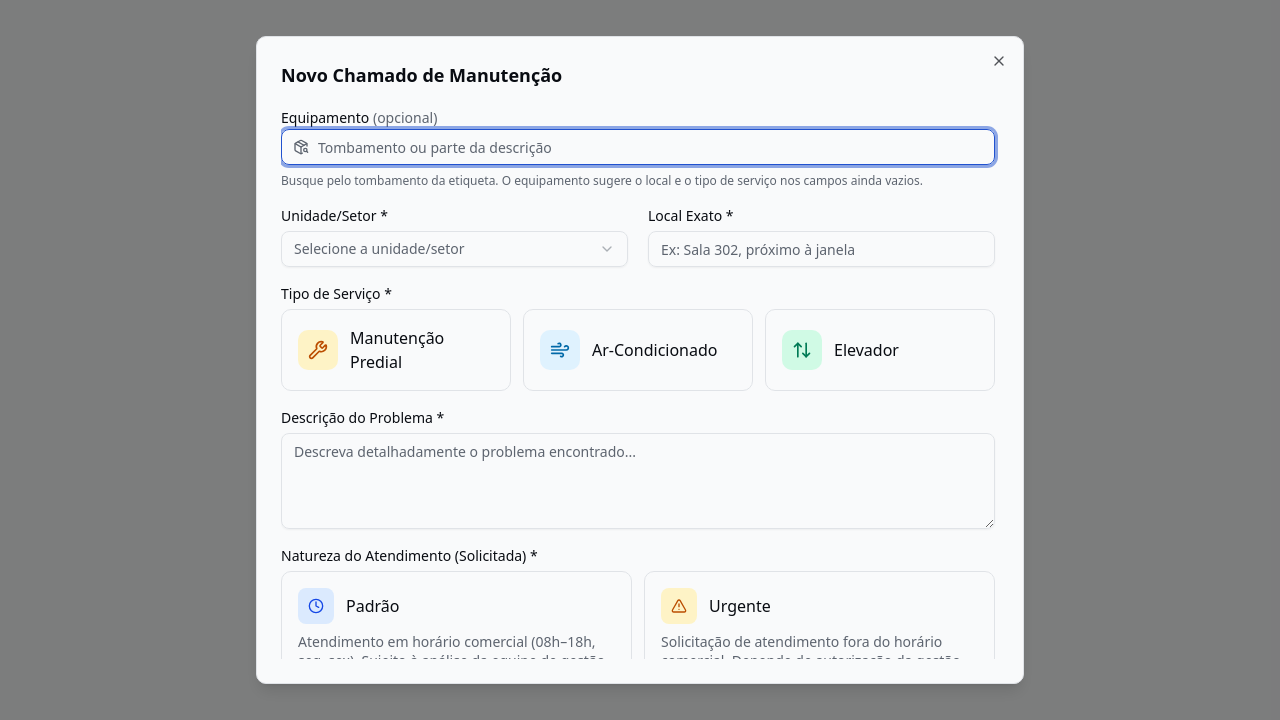
NewTicketDialog · equipamento (spec 0011) › trocar de ativo sobrescreve só o que o anterior preencheu
The width and height of the screenshot is (1280, 720).
Type "119" into the dropdown labelled "Equipamento (opcional)" at (638, 147), box [281, 129, 995, 165]
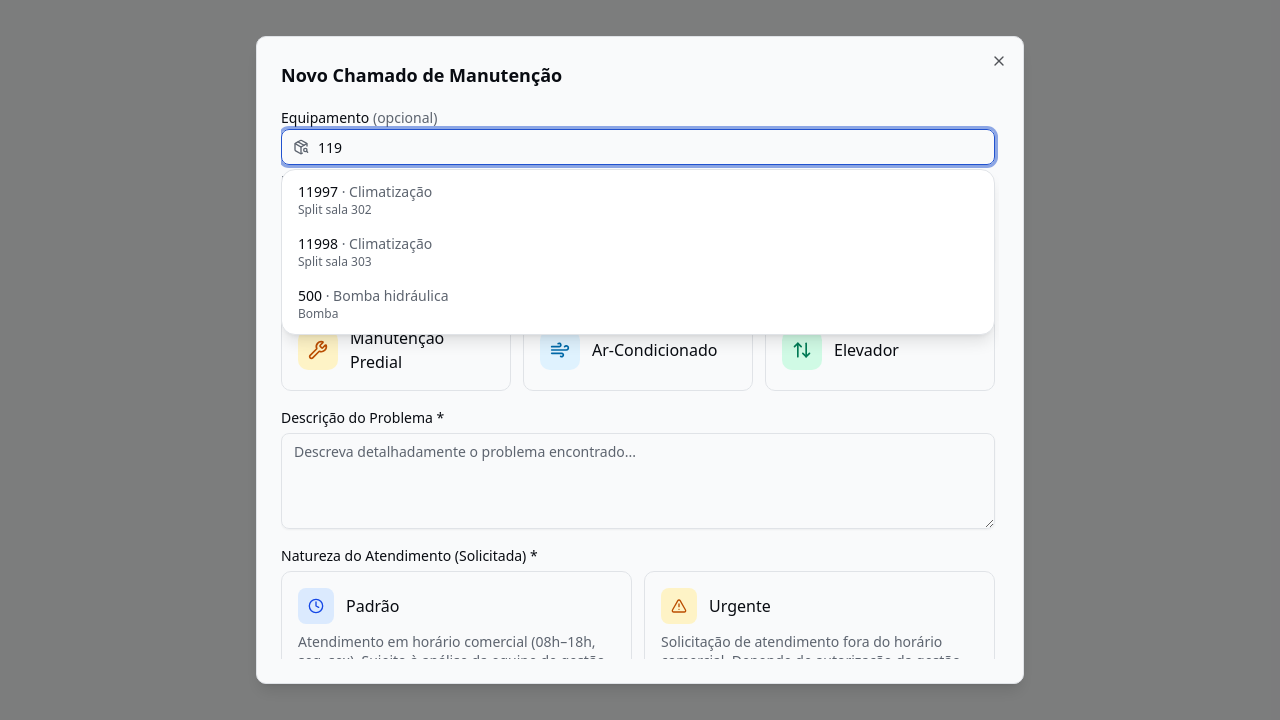
Click the option "11997 · Climatização Split sala 302" at (365, 200), box [298, 182, 432, 218]
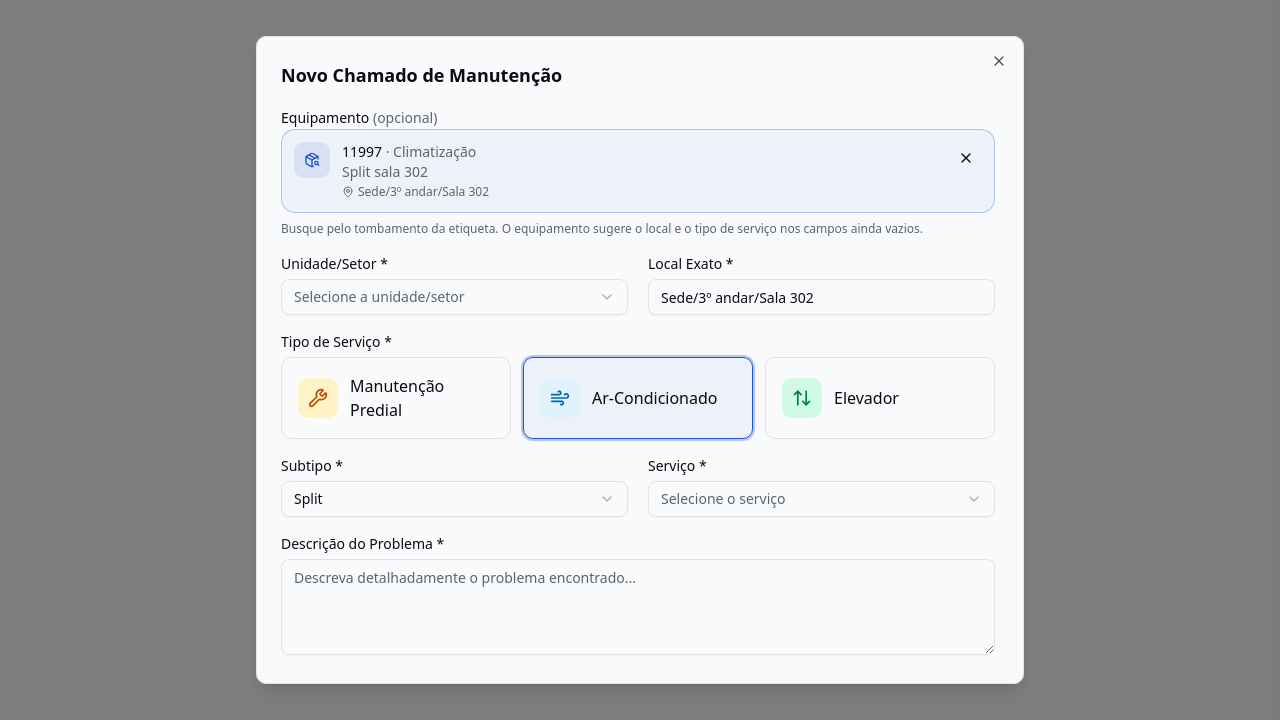
Result: the field labelled "Local Exato *" holds "Sede/3º andar/Sala 302" at [648, 279, 995, 315]
Click the button named "Remover o equipamento 11997" at (966, 158), box [950, 142, 982, 174]
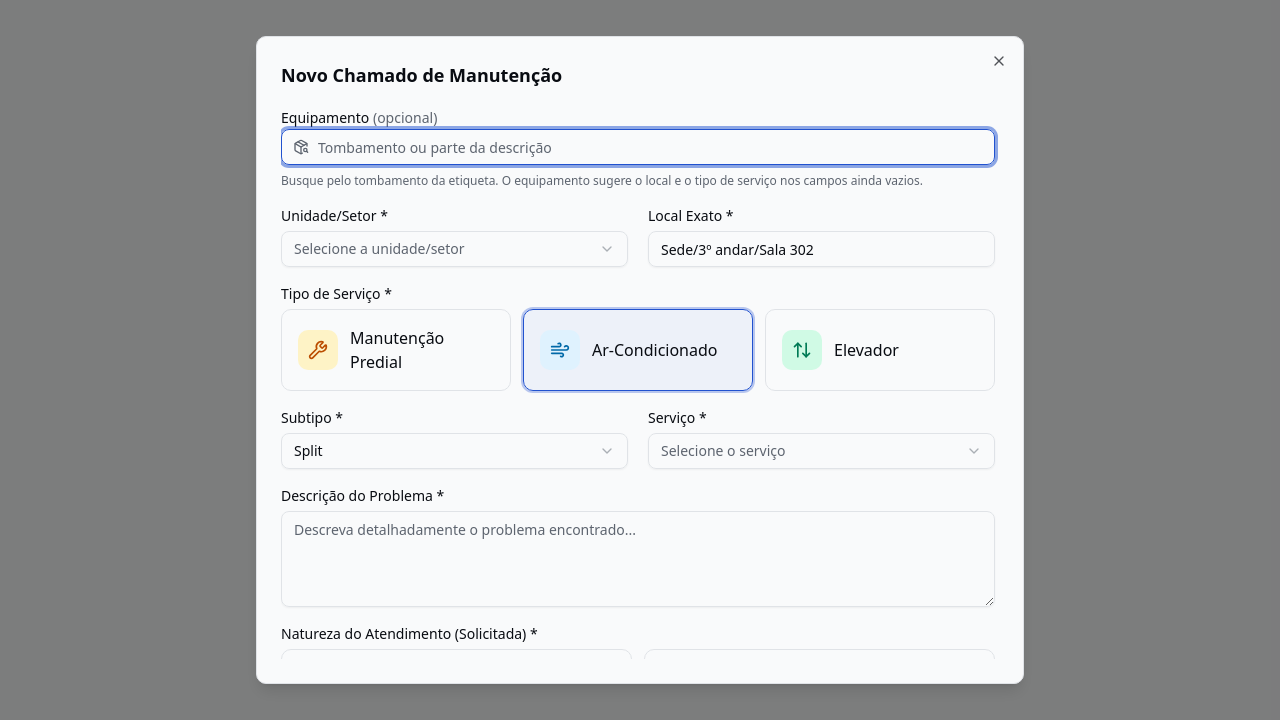
Type "119" into the dropdown labelled "Equipamento (opcional)" at (638, 147), box [281, 129, 995, 165]
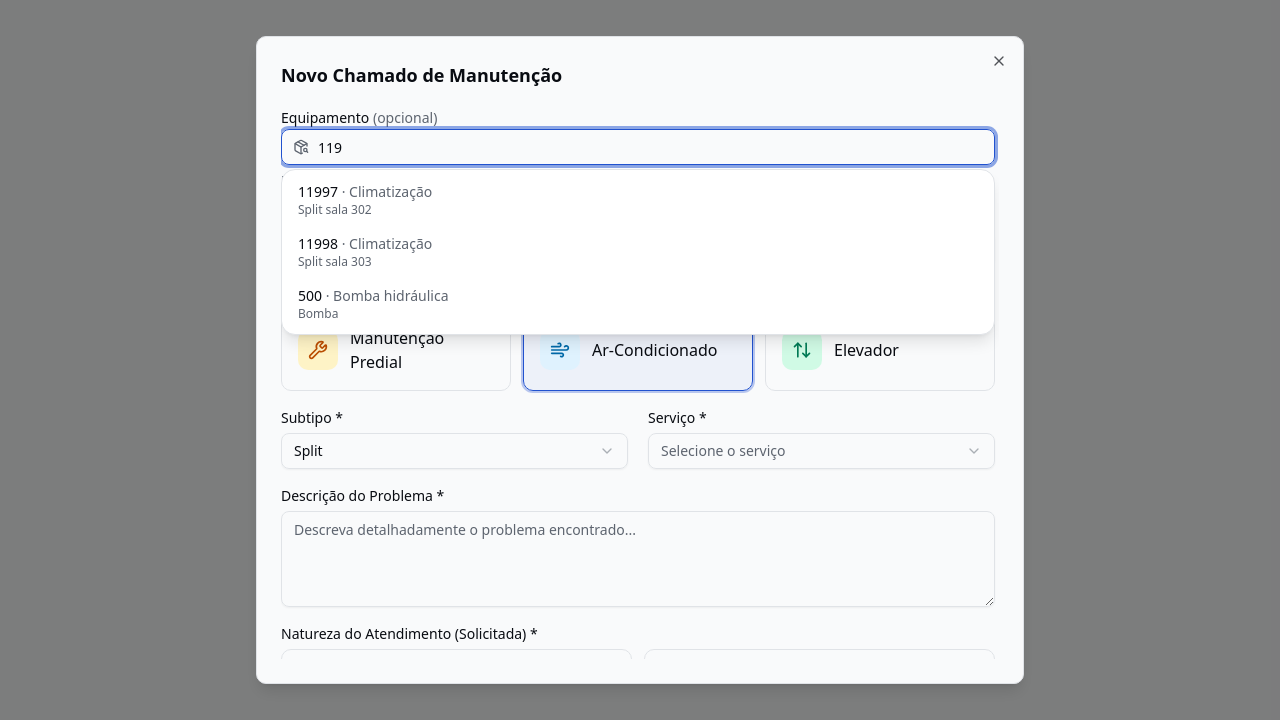
Click the option "11998 · Climatização Split sala 303" at (365, 252), box [298, 234, 432, 270]
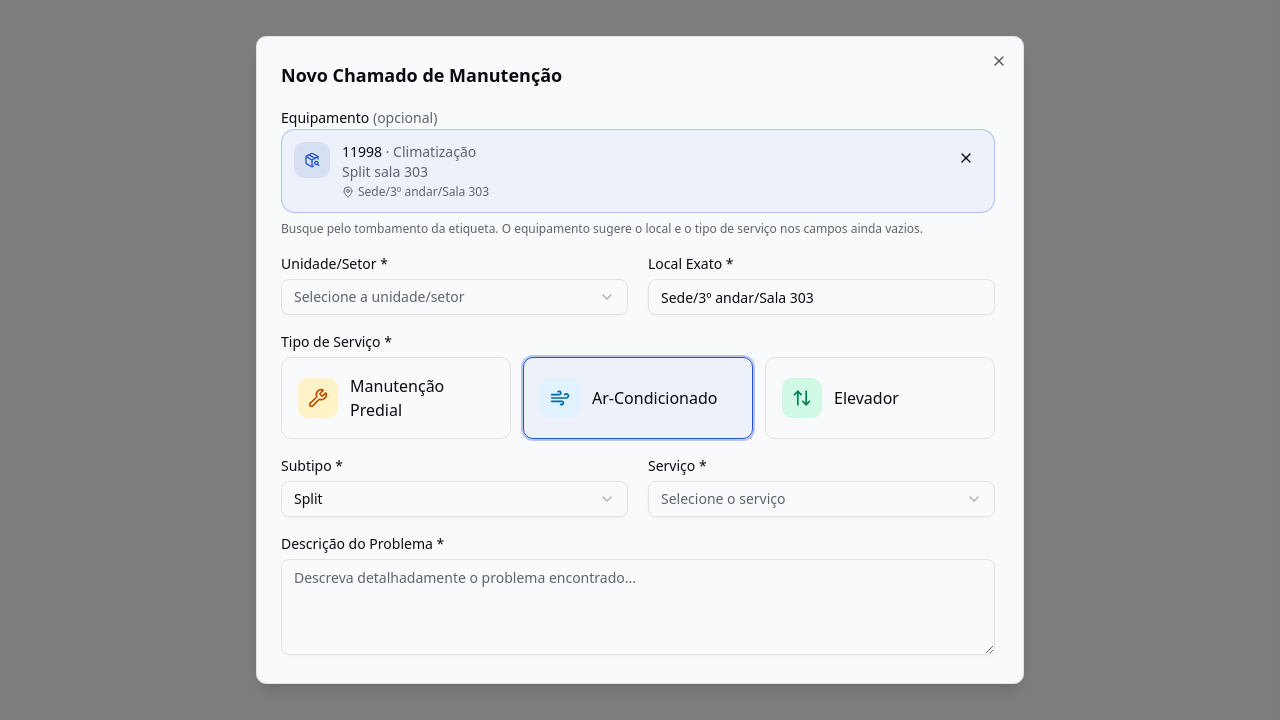
Result: the field labelled "Local Exato *" holds "Sede/3º andar/Sala 303" at [648, 279, 995, 315]
